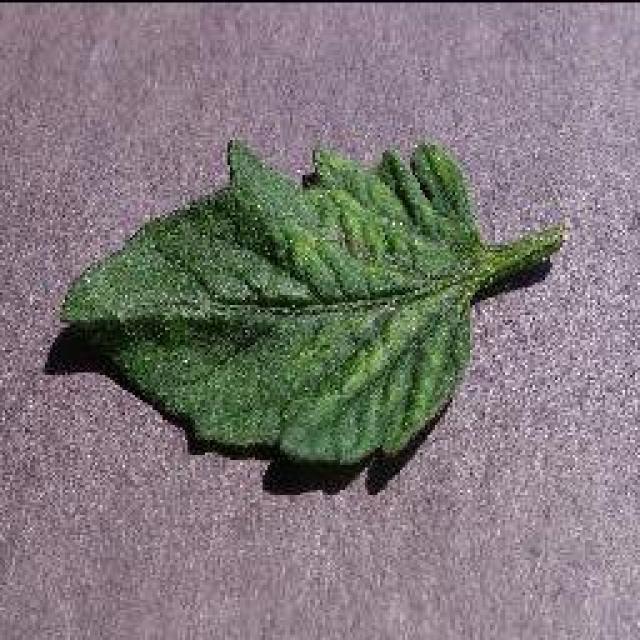Tomato___Tomato_mosaic_virus: (65, 140, 560, 465)
